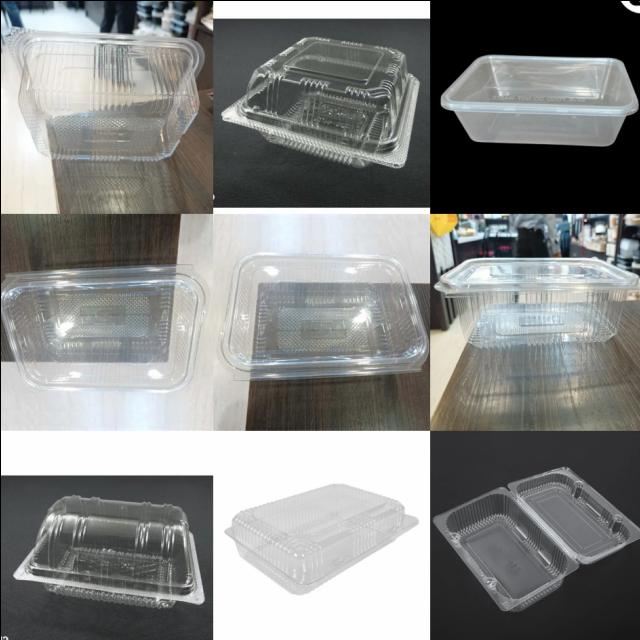plastik: (433, 466, 640, 609), (219, 251, 427, 378), (0, 264, 206, 391), (5, 28, 202, 160), (222, 37, 417, 166), (13, 494, 202, 606), (225, 483, 417, 593), (440, 54, 637, 146), (435, 257, 638, 346)
